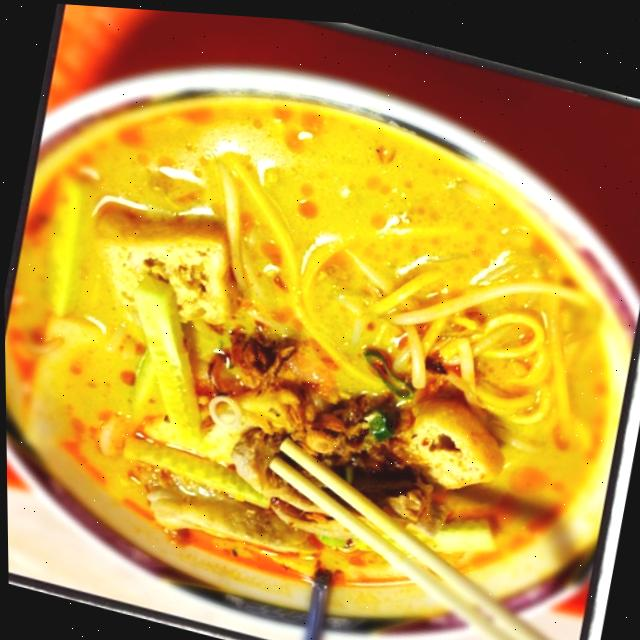面条主食: (0, 10, 640, 640)
